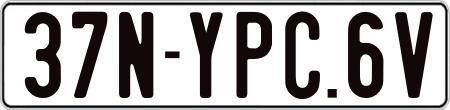3: (25, 11, 66, 100)
6: (347, 12, 386, 100)
7: (70, 9, 105, 99)
C: (284, 9, 321, 101)
N: (119, 11, 153, 101)
P: (236, 12, 272, 99)
V: (395, 10, 437, 102)
Y: (188, 12, 225, 101)
